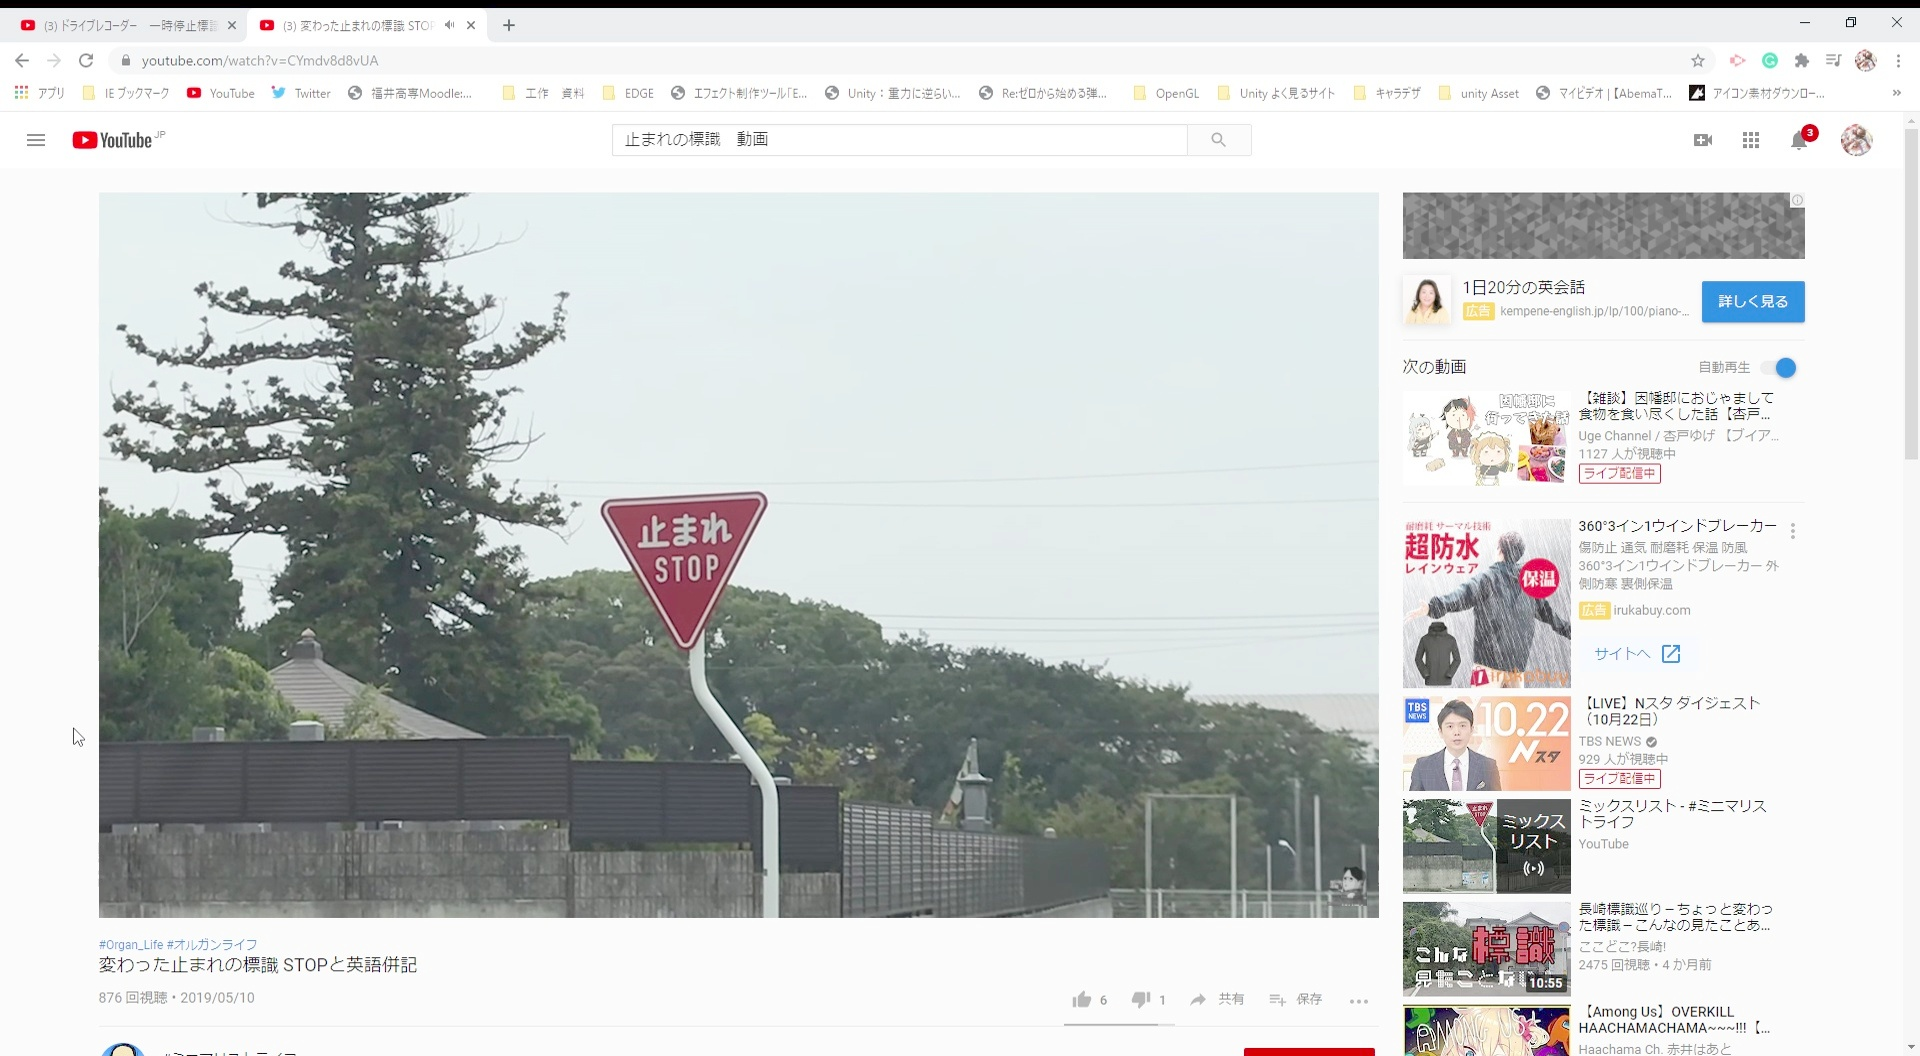Regulatory_sign_triangle: (582, 479, 792, 662)
